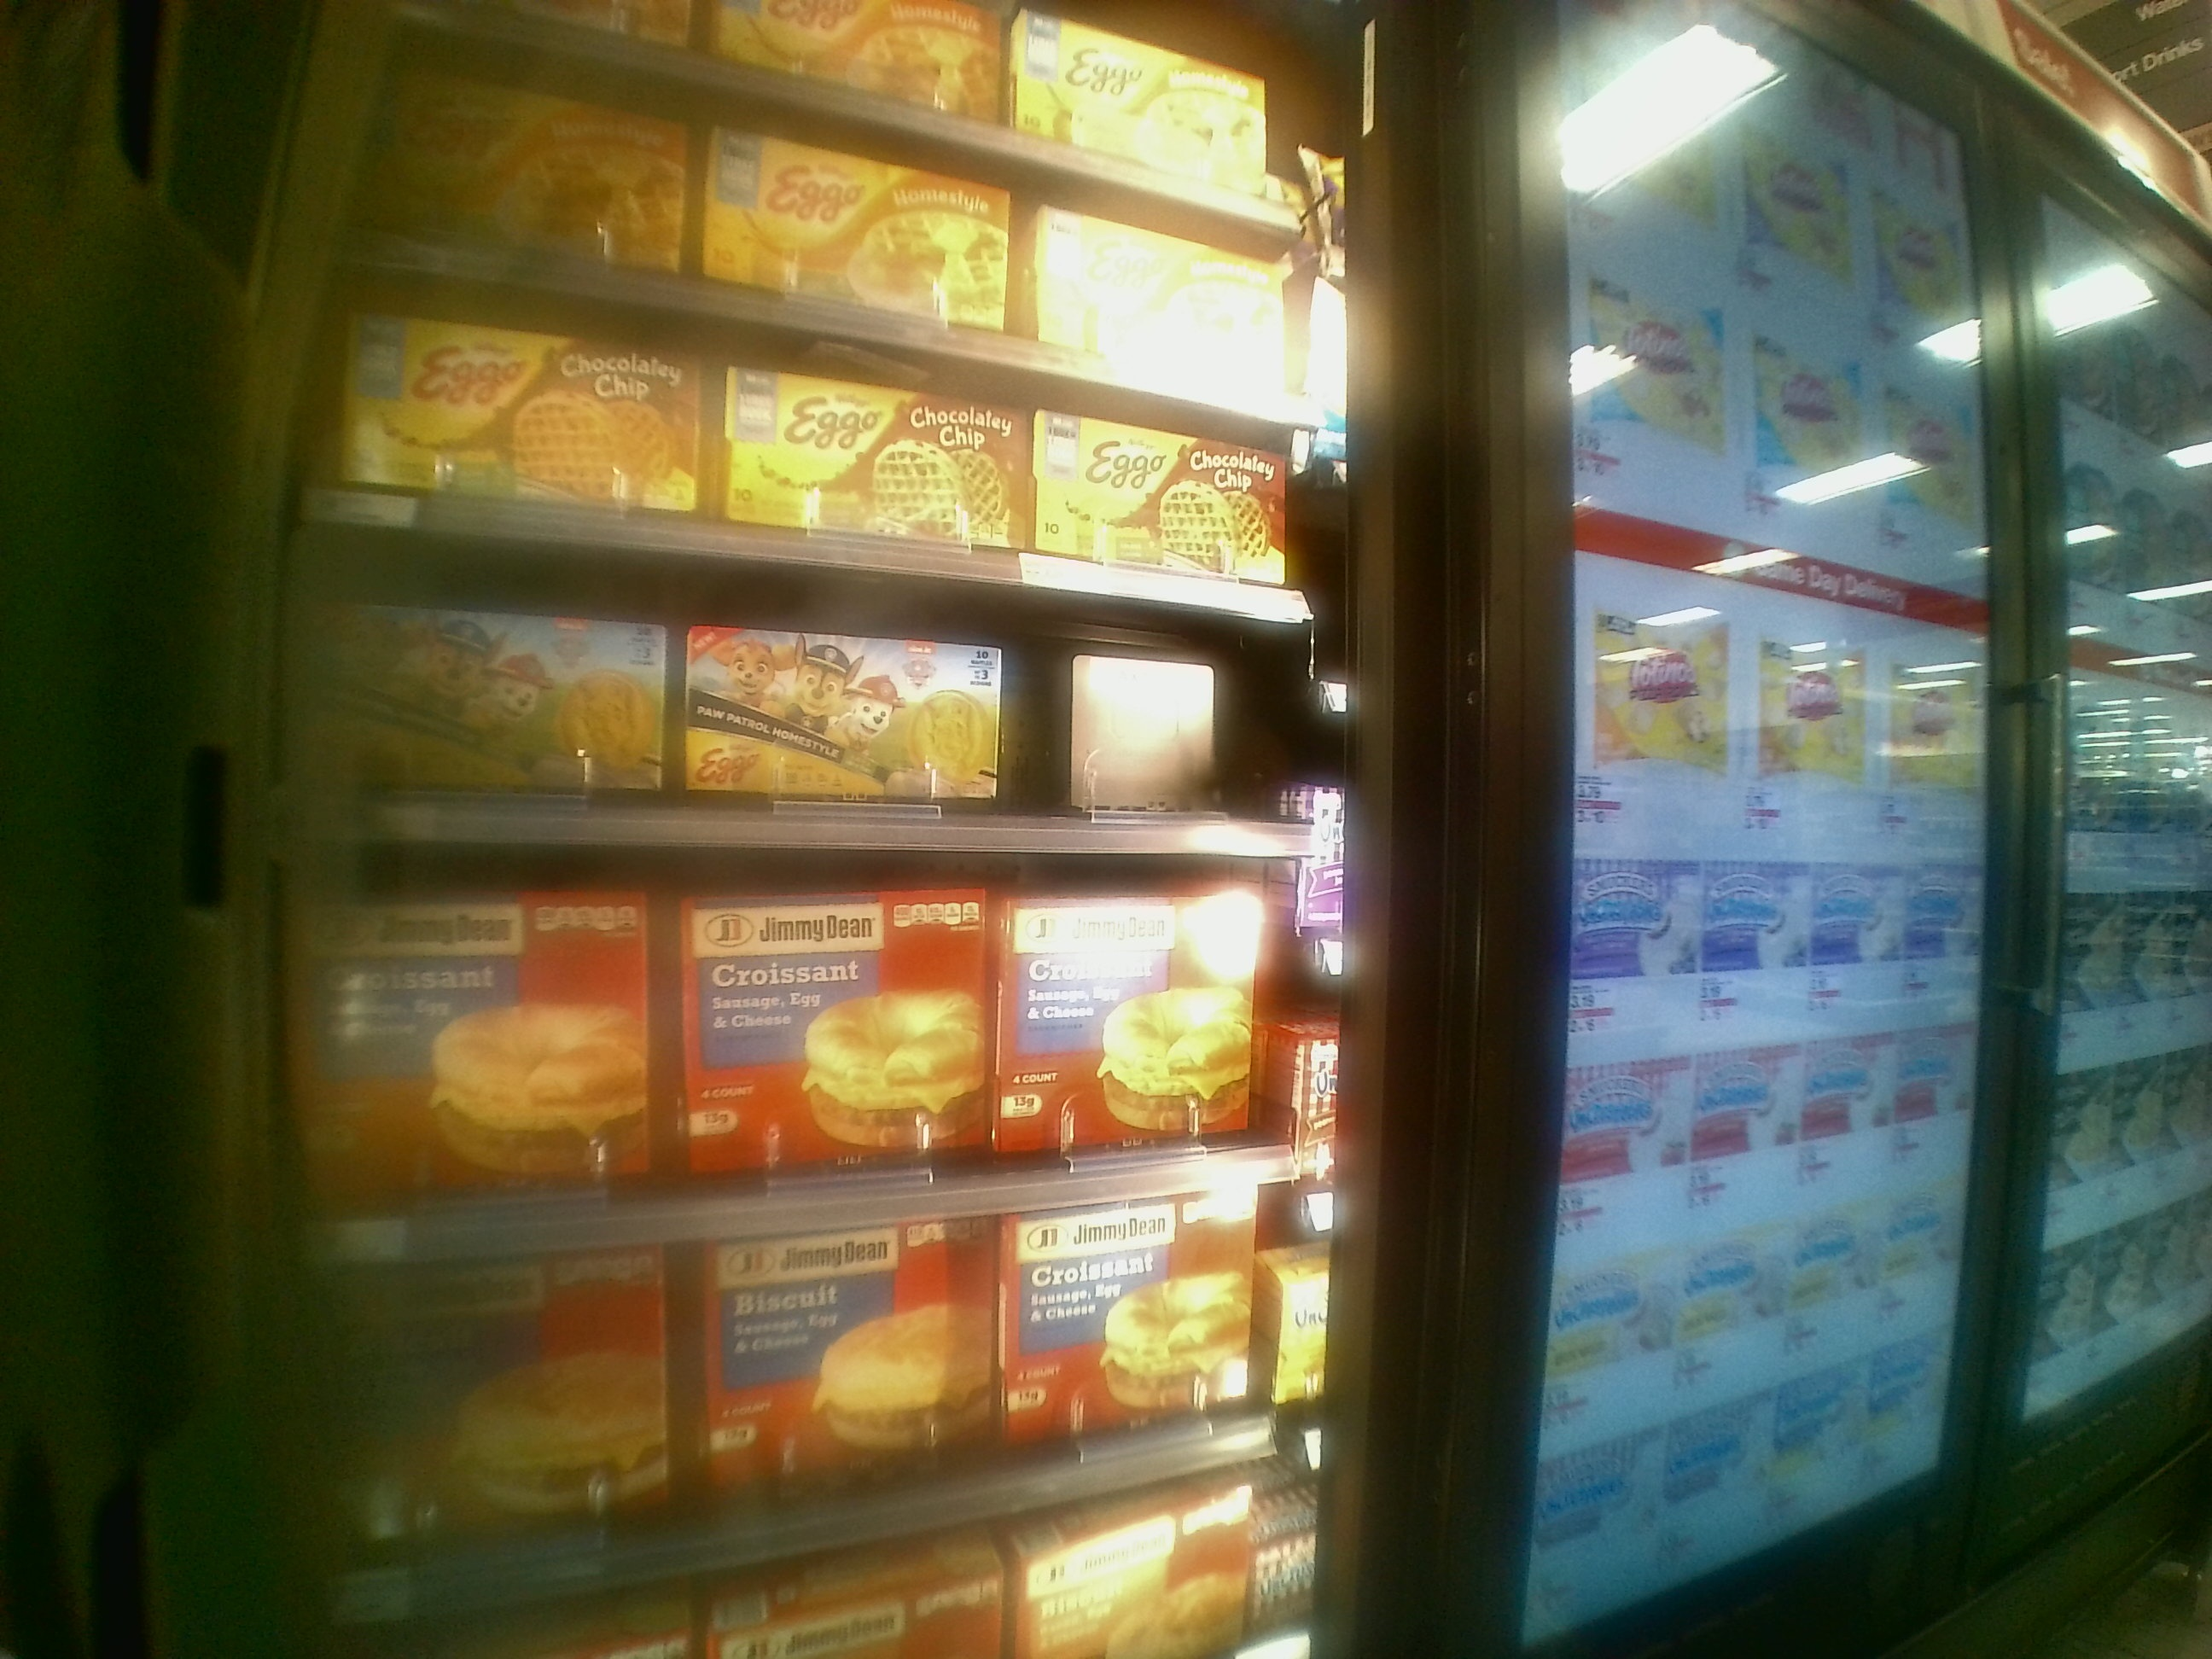shelf: (301, 852, 1362, 1263), (301, 518, 1355, 849)
